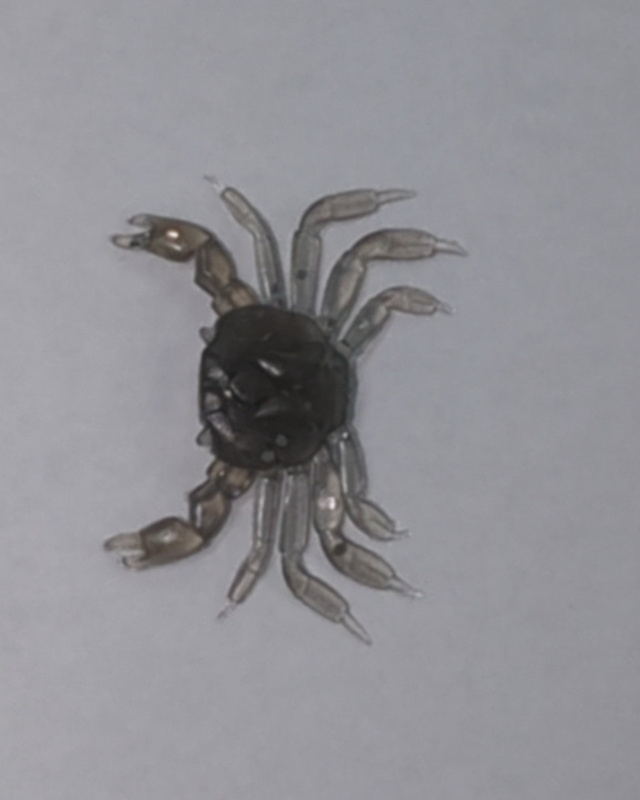crab1: (100, 172, 469, 647)
